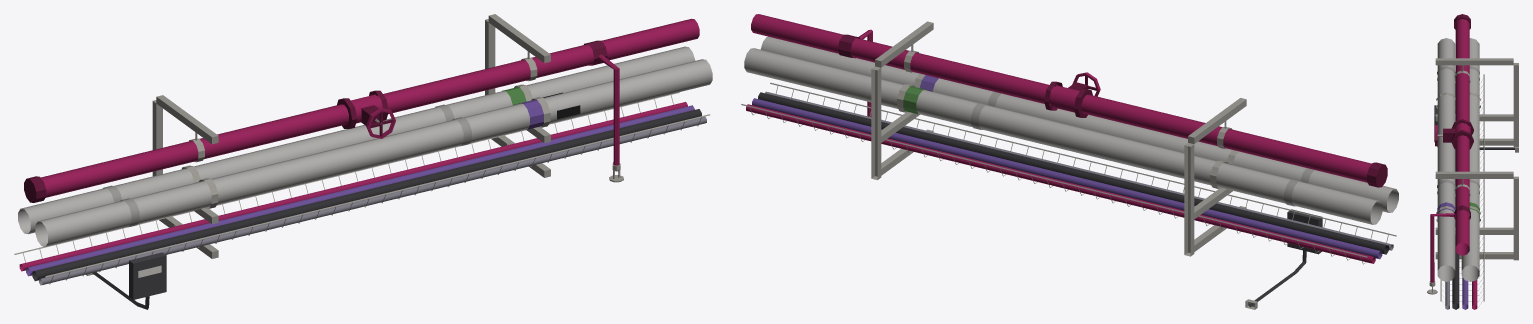
File: pipe_run_b.glb
The picture shows the model from 3 angles, left to right: view 1: azimuth 30°, elevation 25°; view 2: azimuth 150°, elevation 25°; view 3: azimuth 270°, elevation 25°; orthographic projection. The views are drawn at different scales.
Visible parts, largest first — view 1: pipe_run_b; view 2: pipe_run_b; view 3: pipe_run_b.
Boxes of the visible parts, <box> form: pipe_run_b: <box>14,14,712,309</box>; pipe_run_b: <box>741,14,1398,309</box>; pipe_run_b: <box>1427,14,1518,309</box>.
Bounding box in the file's own units: 4 × 0.94 × 0.685.
